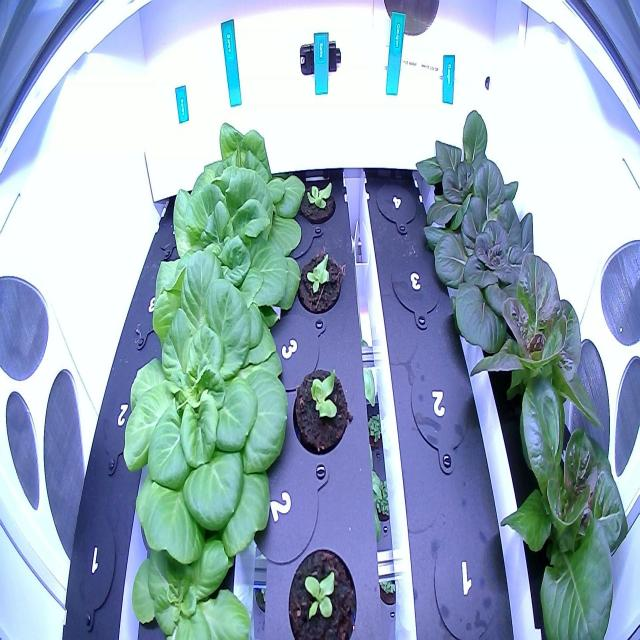empty_pod: (426, 510, 508, 638), (404, 341, 474, 476), (61, 515, 126, 634), (94, 364, 149, 476), (383, 240, 445, 333), (123, 254, 174, 352), (372, 167, 427, 239), (151, 178, 194, 258)
young: (122, 246, 297, 578), (468, 244, 614, 514), (494, 367, 637, 640), (147, 156, 306, 346), (432, 152, 560, 354), (128, 473, 255, 640), (168, 113, 306, 253), (412, 95, 525, 236), (281, 538, 361, 639), (290, 348, 355, 458), (290, 237, 350, 322), (293, 168, 342, 231)
